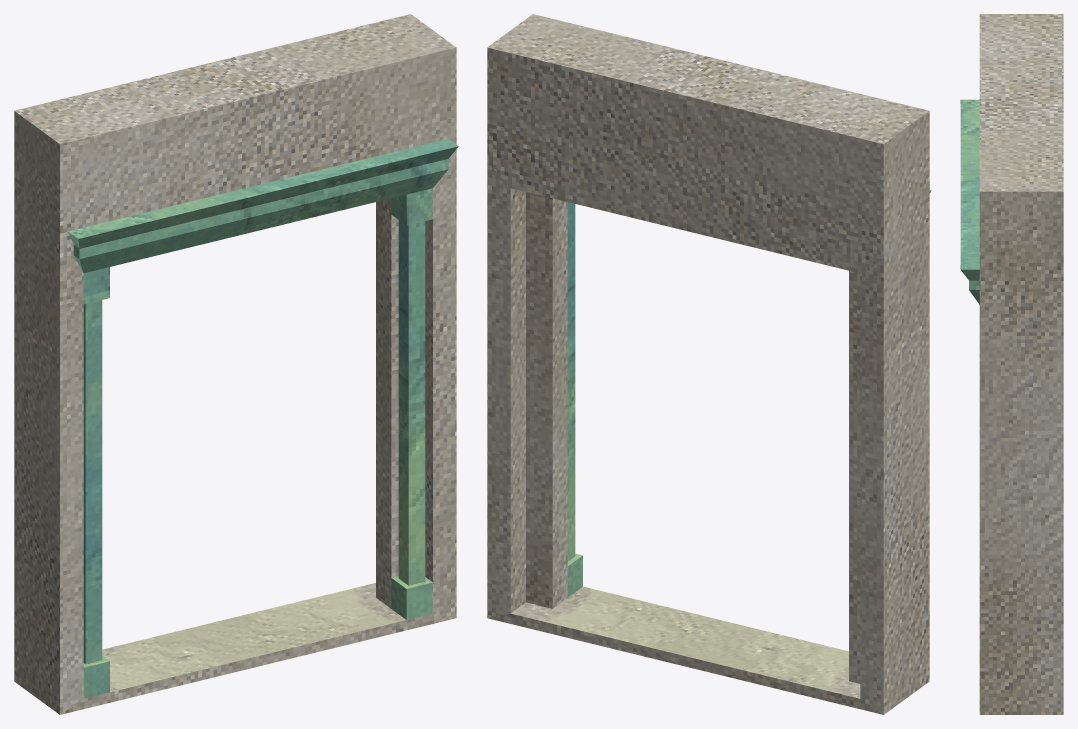
The model's file is DoorDouble.fbx.
3 views of the same model, side by side, from view 1: azimuth 30°, elevation 25°; view 2: azimuth 150°, elevation 25°; view 3: azimuth 270°, elevation 25° (orthographic). The views are drawn at different scales.
Parts seen in each view (by area): view 1: DoorWide_2m75; view 2: DoorWide_2m75; view 3: DoorWide_2m75.
Part boxes in pixels (x1=…): DoorWide_2m75: x1=14, y1=14, x2=458, y2=714; DoorWide_2m75: x1=487, y1=14, x2=931, y2=714; DoorWide_2m75: x1=960, y1=14, x2=1063, y2=714.
Size of the model in its own units: 200 by 275 by 49.08.
1 material, 1 textured.
